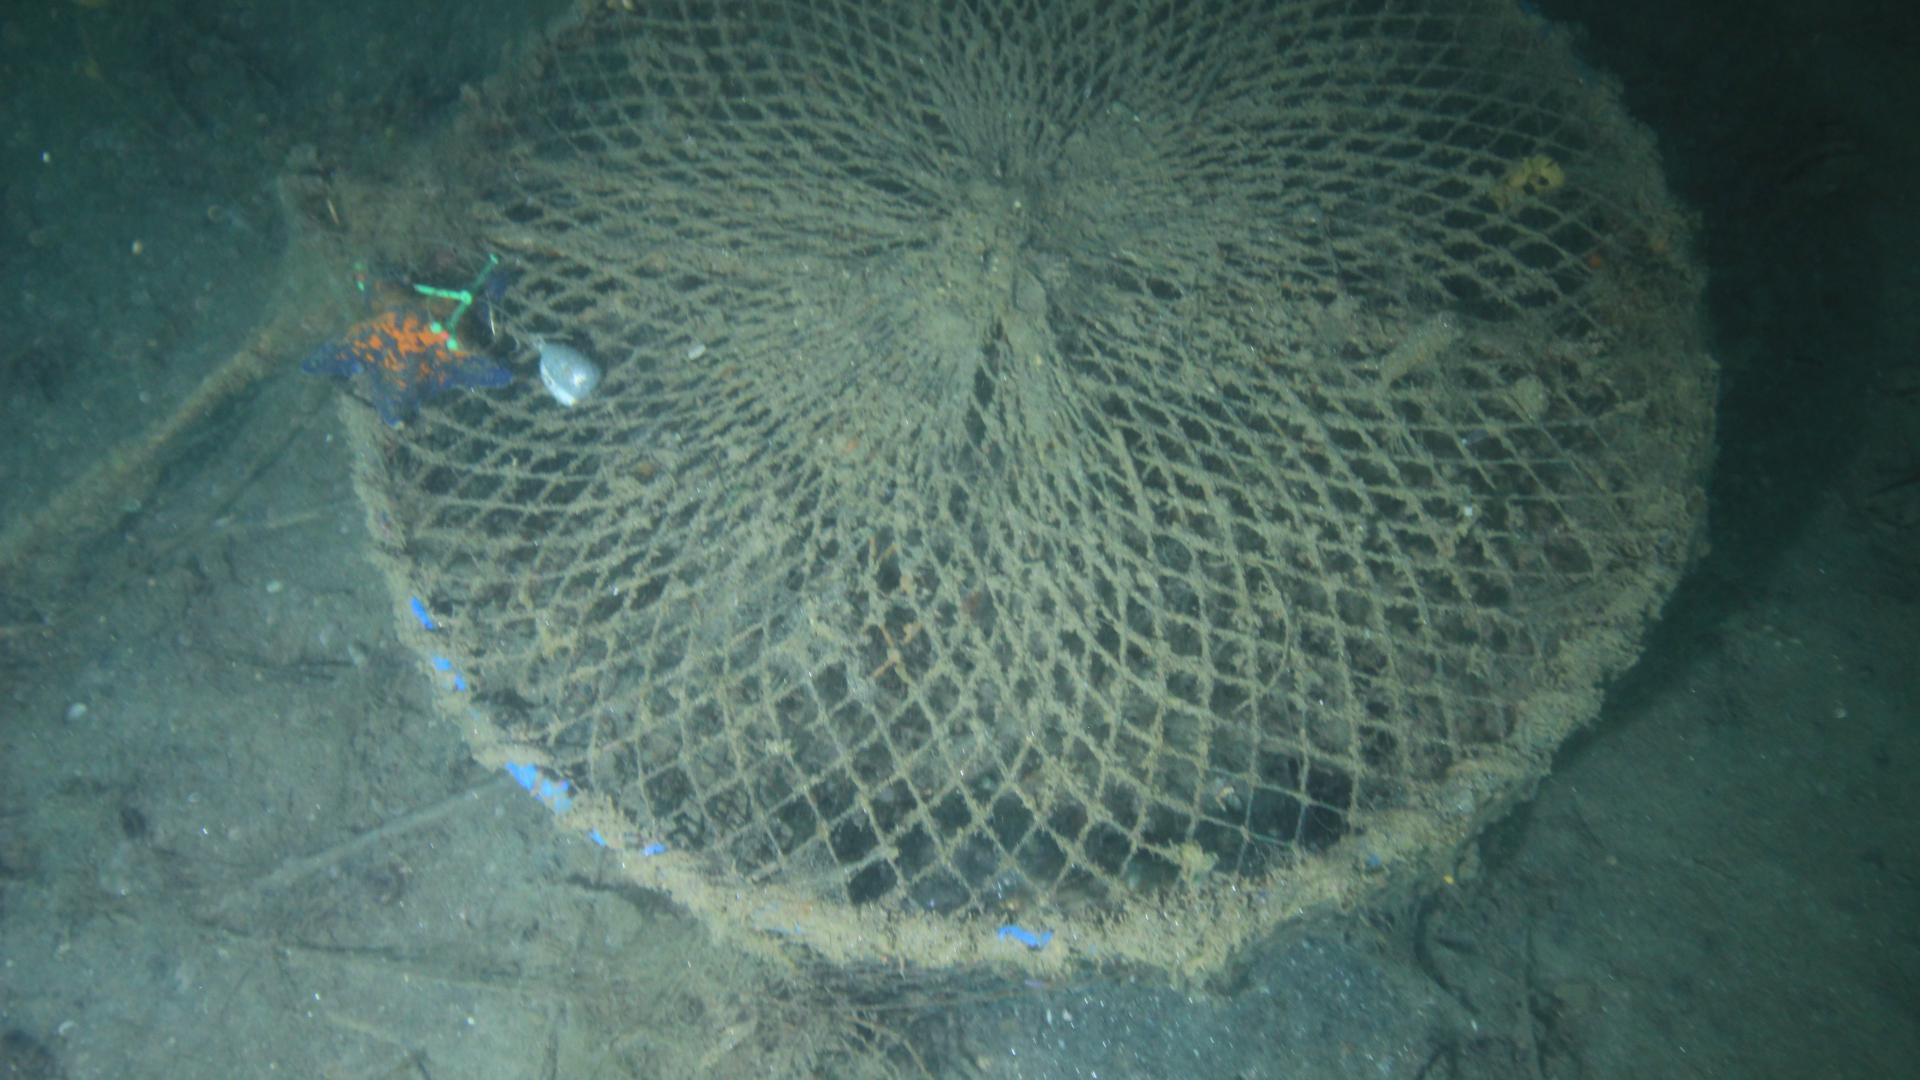bundle of ropes: (3, 138, 375, 560)
circular fish trap: (323, 0, 1731, 996)
